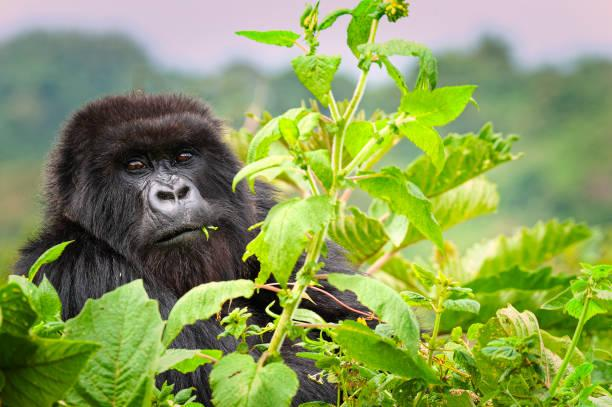goriile_montagne: (32, 60, 427, 407)
